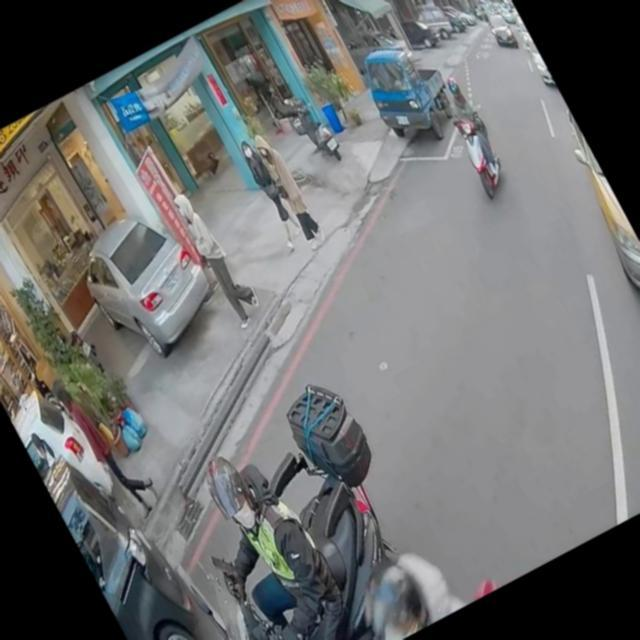person: (165, 433, 373, 640), (38, 352, 165, 529), (162, 178, 266, 330), (324, 536, 463, 640), (230, 131, 313, 255), (247, 126, 326, 248), (430, 70, 510, 186), (20, 422, 66, 476)
